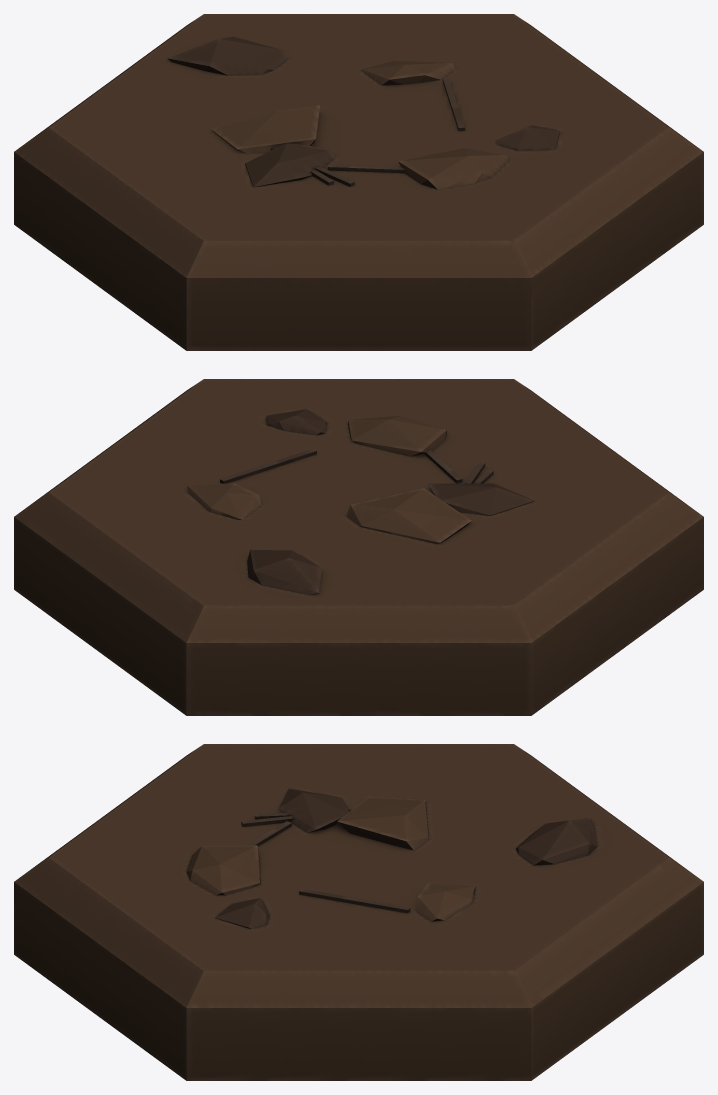
File: tile_hex_peat.glb
3 renders of one model, top to bottom at view 1: azimuth 30°, elevation 25°; view 2: azimuth 150°, elevation 25°; view 3: azimuth 270°, elevation 25°, orthographic.
Visible parts, largest first — view 1: tile_hex_peat; view 2: tile_hex_peat; view 3: tile_hex_peat.
Boxes of the visible parts, box(x1,y1,x2,y2) form: tile_hex_peat: box(14, 14, 703, 350); tile_hex_peat: box(14, 379, 703, 715); tile_hex_peat: box(14, 744, 703, 1080).
Size of the model in its own units: 1.12 by 0.2414 by 1.29.
Materials: 1 (1 with a texture image).
